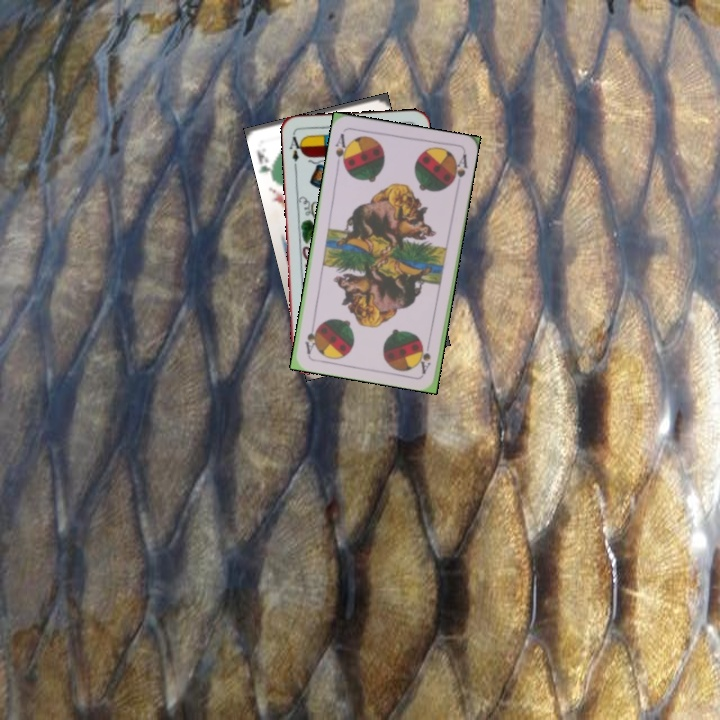EA: (285, 130, 305, 170)
GK: (253, 146, 276, 179)
SA: (331, 129, 352, 170), (417, 335, 433, 375)
